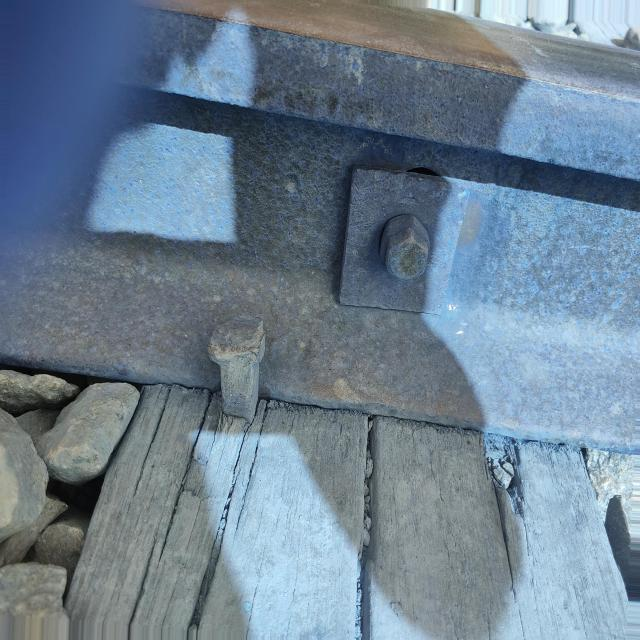Good Fasteners: (208, 316, 265, 423)
